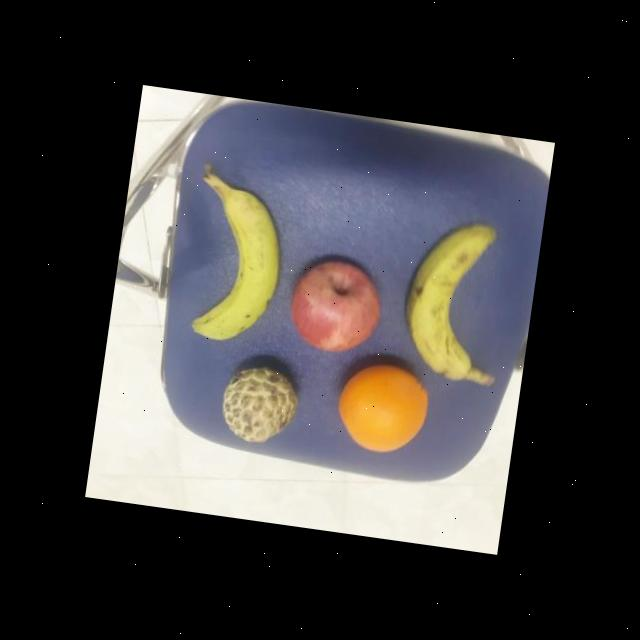Sakya fruit: (216, 361, 306, 452)
apple: (283, 253, 389, 359)
banana: (392, 215, 502, 388), (184, 182, 292, 353)
orange: (330, 358, 434, 462)
